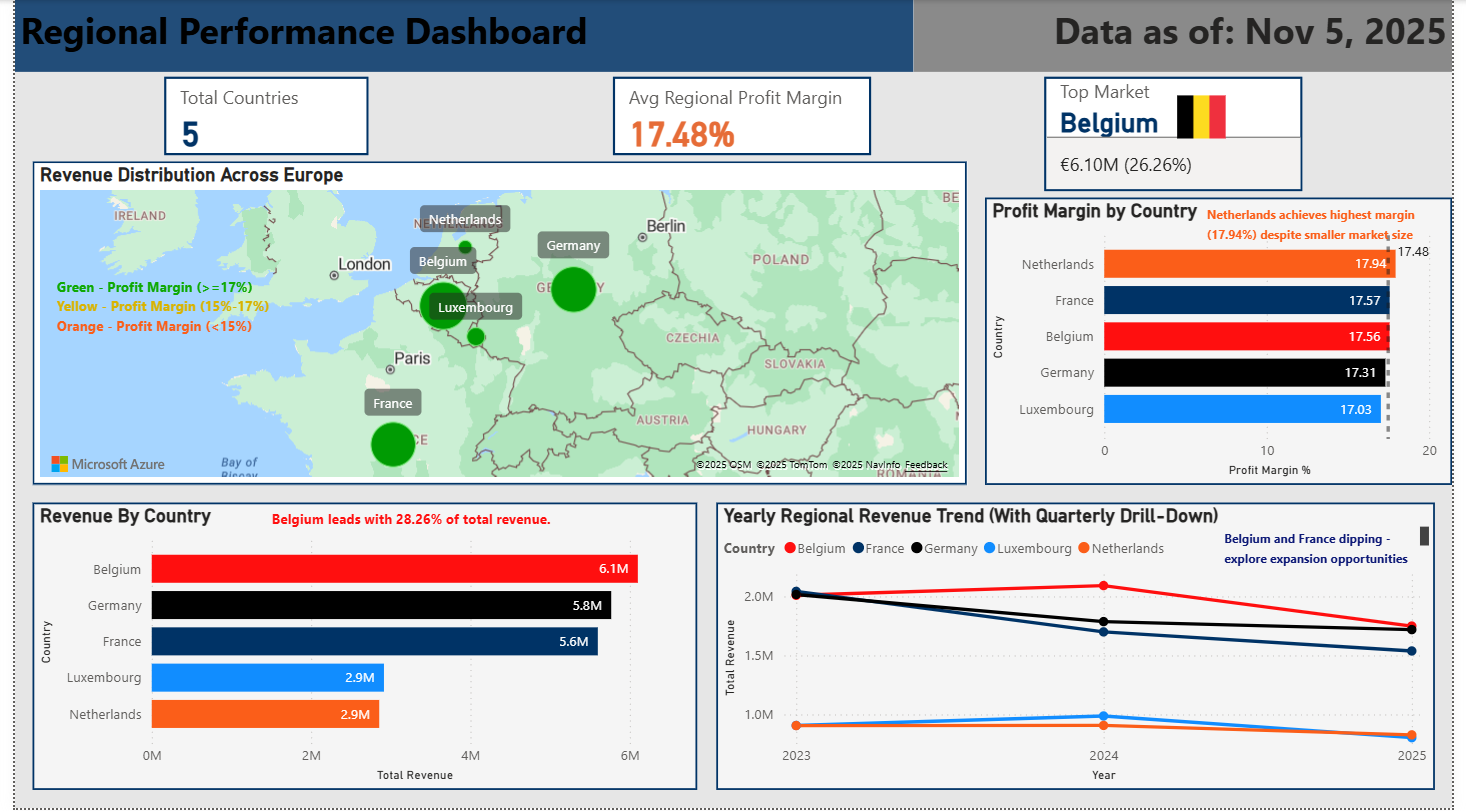

The page's visual inventory and layout, read from the dashboard file:
{"tool":"powerbi","page":{"name":"Regional Performance","canvas":[1280,720],"ordinal":5},"visuals":[{"type":"textbox","box":[0,0,800,64],"z":0},{"type":"textbox","box":[800,0,480,64],"z":1000},{"type":"cardVisual","fields":{"Data":["Regional Measures.Total Countries"]},"box":[128,64,192,80],"z":2000},{"type":"cardVisual","fields":{"Data":["Regional Measures.Avg Regional Profit Margin"]},"box":[528,64,240,80],"z":3000},{"type":"cardVisual","fields":{"Data":["Regional Measures.Top Region by Revenue"]},"box":[912,64,240,112],"z":4000},{"type":"image","box":[1008,80,96,48],"z":5000},{"type":"azureMap","title":"Revenue Distribution Across Europe","fields":{"Category":["fact_sales.region_country"],"Size":["fact_sales.Total Revenue"]},"box":[16,144,832,288],"z":6000},{"type":"clusteredBarChart","title":"Revenue By Country","fields":{"Y":["fact_sales.Total Revenue"],"Category":["regions.country"]},"box":[16,448,592,256],"z":7000},{"type":"textbox","box":[224,448,384,32],"z":8000},{"type":"lineChart","title":"Yearly Regional Revenue Trend (With Quarterly Drill-Down)","fields":{"Y":["fact_sales.Total Revenue"],"Category":["dim_date.full_date.Variation.Date Hierarchy.Year","dim_date.full_date.Variation.Date Hierarchy.Quarter"],"Series":["fact_sales.region_country"]},"box":[624,448,640,256],"z":9000},{"type":"clusteredBarChart","title":"Profit Margin by Country","fields":{"Category":["regions.country"],"Y":["fact_sales.Profit Margin %"]},"box":[864,176,416,256],"z":10000},{"type":"textbox","box":[1056,176,224,48],"z":11000},{"type":"textbox","box":[32,240,272,64],"z":12000},{"type":"textbox","box":[1072,464,192,48],"z":13000}]}

Visuals, with their boxes in screenshot pixels (x1, y1, x2, y2), scaled from the page's 1280x720 canvas onto the 1466x811 screenshot:
textbox: l=0, t=0, r=916, b=72
textbox: l=916, t=0, r=1465, b=72
cardVisual - Regional Measures.Total Countries: l=147, t=72, r=366, b=162
cardVisual - Regional Measures.Avg Regional Profit Margin: l=605, t=72, r=880, b=162
cardVisual - Regional Measures.Top Region by Revenue: l=1045, t=72, r=1319, b=198
image: l=1154, t=90, r=1264, b=144
"Revenue Distribution Across Europe" azureMap: l=18, t=162, r=971, b=487
"Revenue By Country" clusteredBarChart: l=18, t=505, r=696, b=793
textbox: l=257, t=505, r=696, b=541
"Yearly Regional Revenue Trend (With Quarterly Drill-Down)" lineChart: l=715, t=505, r=1448, b=793
"Profit Margin by Country" clusteredBarChart: l=990, t=198, r=1465, b=487
textbox: l=1209, t=198, r=1465, b=252
textbox: l=37, t=270, r=348, b=342
textbox: l=1228, t=523, r=1448, b=577
